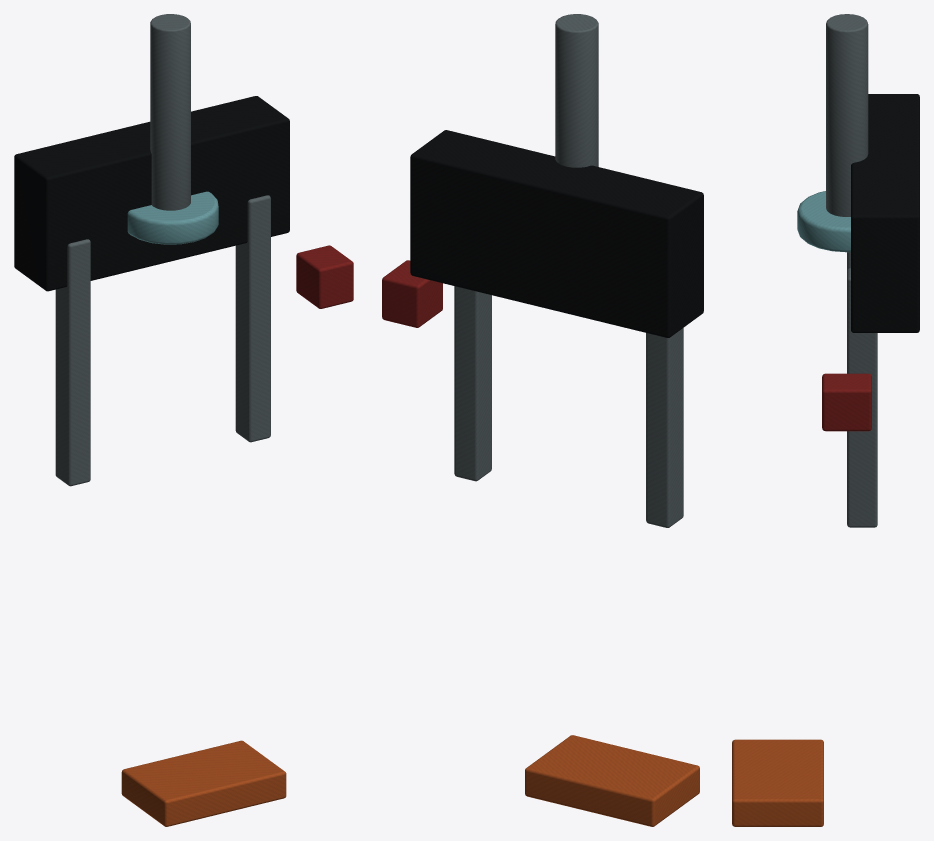
The model's file is ChemicalSafetyShower.fbx.
3 views of the same model, side by side, from view 1: azimuth 30°, elevation 25°; view 2: azimuth 150°, elevation 25°; view 3: azimuth 270°, elevation 25° (orthographic). The views are drawn at different scales.
Visible parts, largest first — view 1: ChemicalSafetyShower_Mesh; view 2: ChemicalSafetyShower_Mesh; view 3: ChemicalSafetyShower_Mesh.
Part boxes in pixels (x1=…): ChemicalSafetyShower_Mesh: x1=14, y1=14, x2=353, y2=826; ChemicalSafetyShower_Mesh: x1=382, y1=14, x2=703, y2=826; ChemicalSafetyShower_Mesh: x1=732, y1=14, x2=919, y2=826.
Size of the model in its own units: 91.5 by 223 by 49.
5 materials, 5 textured.
